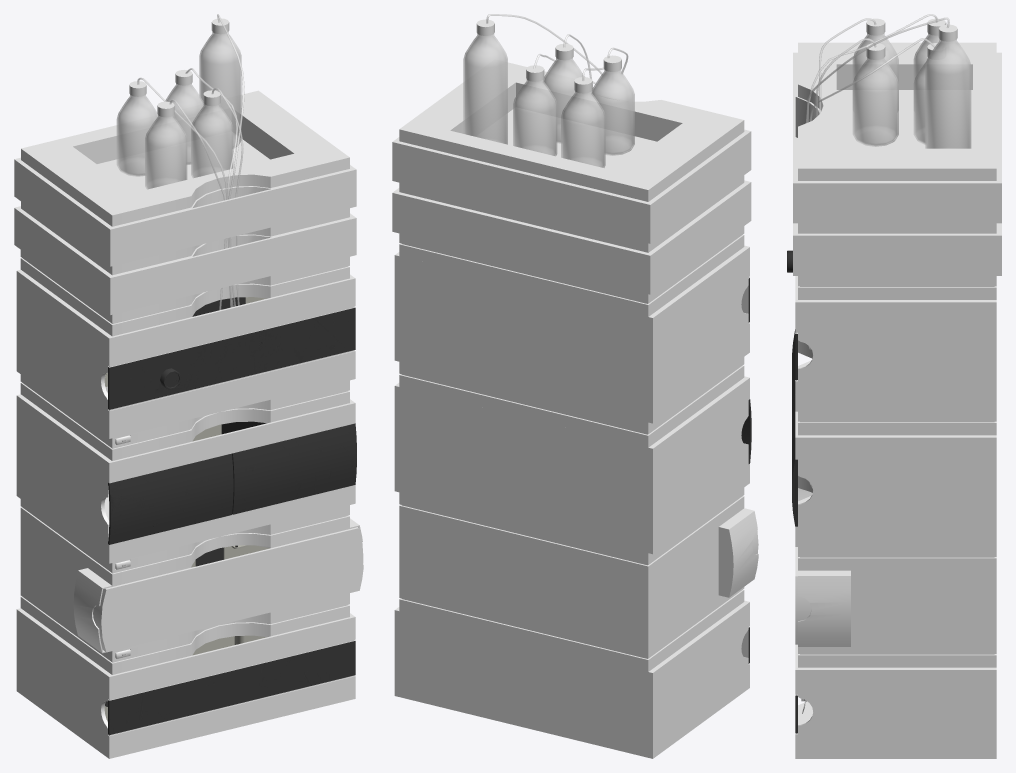
The model's file is SM_安捷伦液相色谱仪.fbx.
3 renders of one model, left to right at view 1: azimuth 30°, elevation 25°; view 2: azimuth 150°, elevation 25°; view 3: azimuth 270°, elevation 25°, orthographic. The views are drawn at different scales.
Visible parts, largest first — view 1: SM_安捷伦液相色谱仪; view 2: SM_安捷伦液相色谱仪; view 3: SM_安捷伦液相色谱仪.
Boxes of the visible parts, bbox=[...] form: SM_安捷伦液相色谱仪: bbox=[14, 14, 363, 758]; SM_安捷伦液相色谱仪: bbox=[392, 14, 758, 758]; SM_安捷伦液相色谱仪: bbox=[787, 14, 1001, 758].
Size of the model in its own units: 0.4672 by 1.09 by 0.3005.
